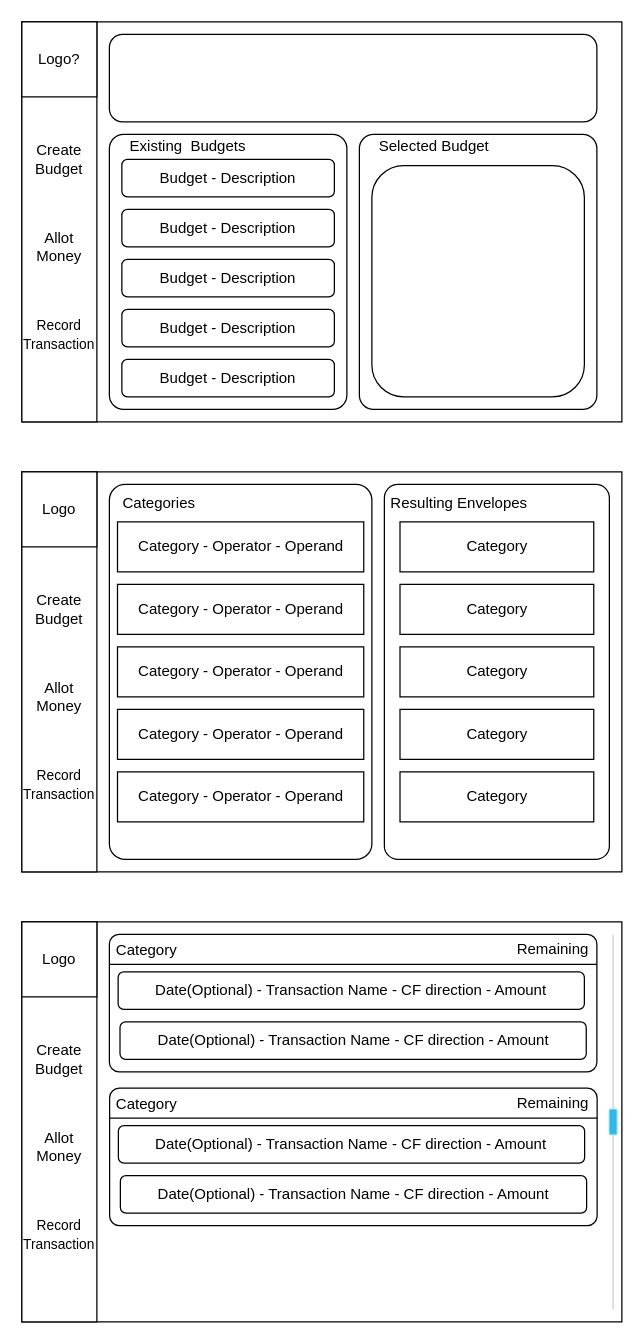
The diagram is 644 pixels wide and 1344 high, and some of its shapes have lost their labels. Each missing label, with the centre of its shape:
"Budget Breakdown" goes at (x=477, y=280).
"Create New Budget" goes at (x=352, y=77).
